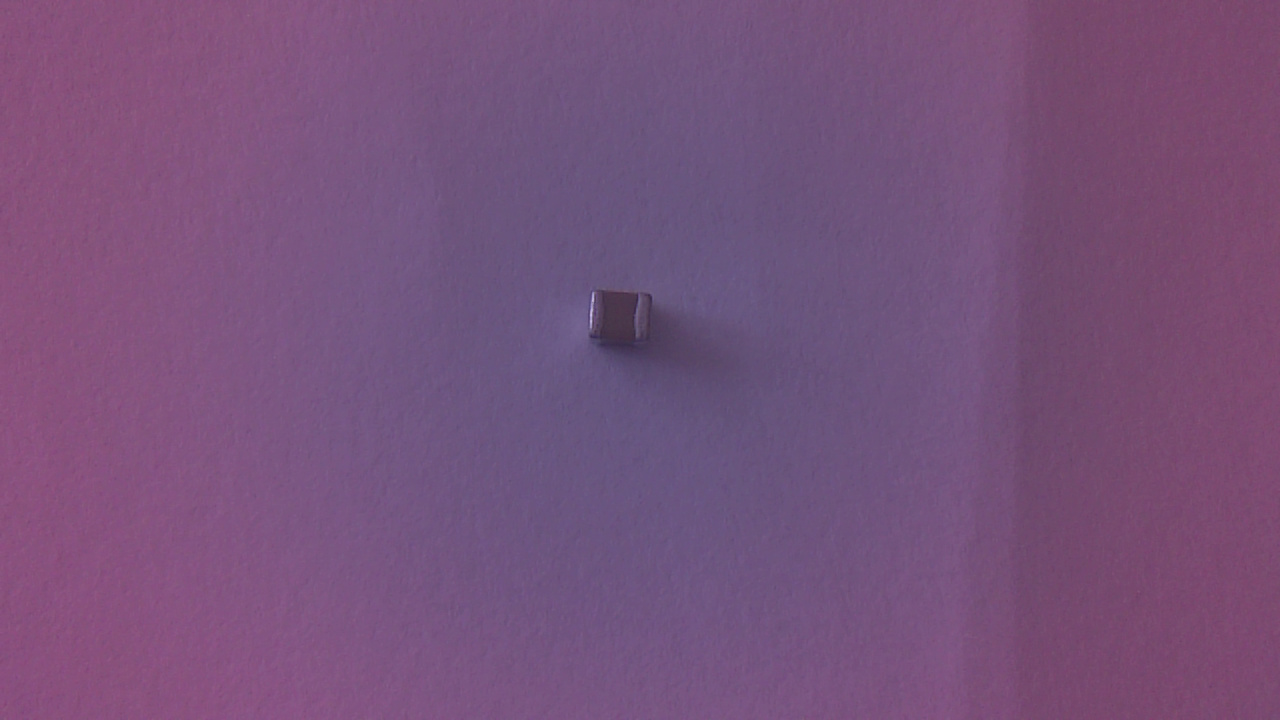Condensator: (588, 290, 664, 361)
